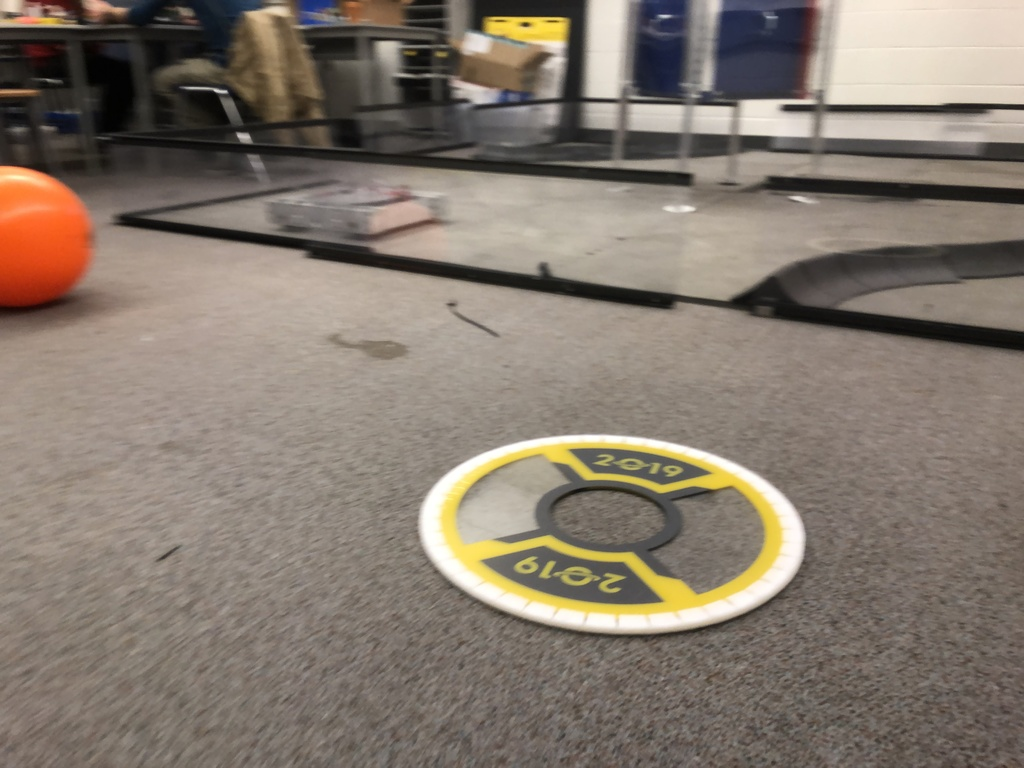hatch_panel: (403, 421, 828, 638)
